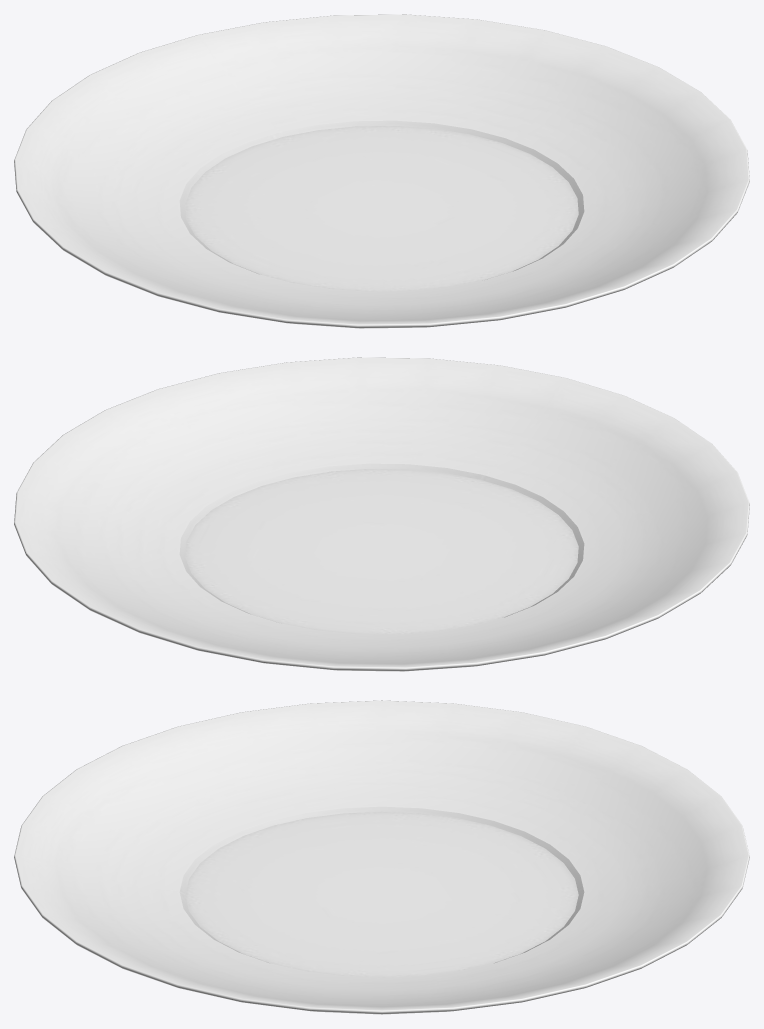
File: dish01.obj
The picture shows the model from 3 angles, top to bottom: view 1: azimuth 30°, elevation 25°; view 2: azimuth 150°, elevation 25°; view 3: azimuth 270°, elevation 25°; orthographic projection.
Visible parts, largest first — view 1: dish01; view 2: dish01; view 3: dish01.
Part boxes in pixels (x1=…): dish01: x1=14, y1=14, x2=749, y2=328; dish01: x1=14, y1=357, x2=749, y2=671; dish01: x1=14, y1=700, x2=749, y2=1014.
Size of the model in its own units: 0.6336 by 0.0483 by 0.6336.
Materials: 1 (1 with a texture image).
